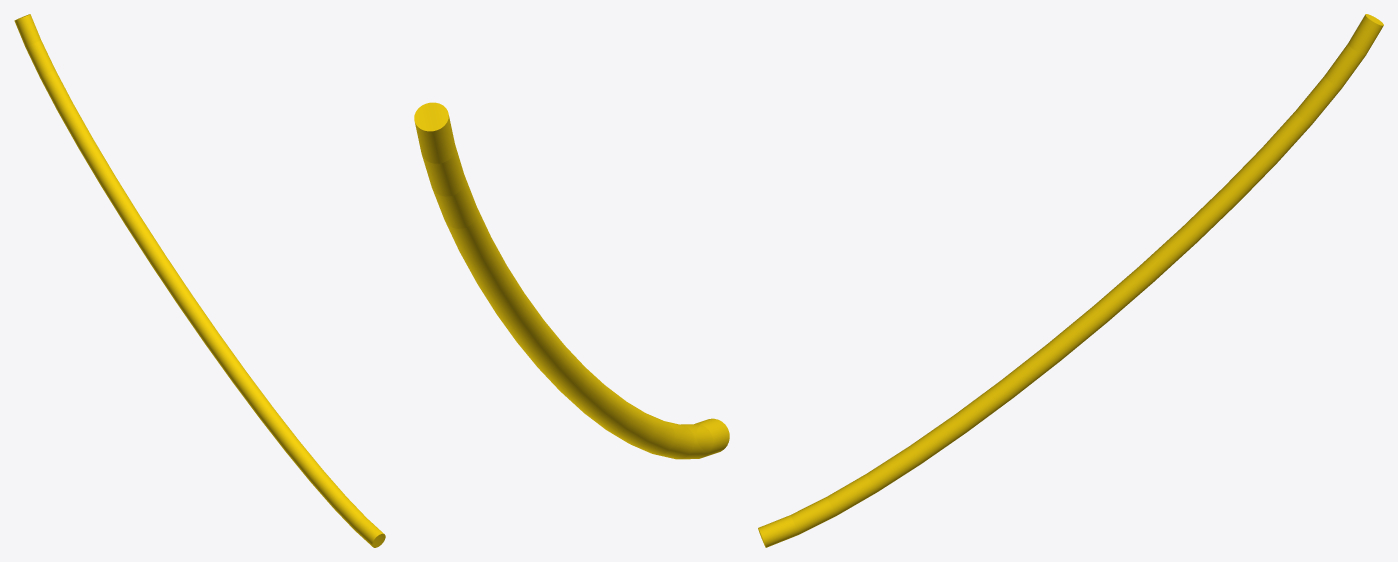
File: Event_420094457_track_95.fbx
3 renders of one model, left to right at view 1: azimuth 30°, elevation 25°; view 2: azimuth 150°, elevation 25°; view 3: azimuth 270°, elevation 25°, orthographic. The views are drawn at different scales.
Visible parts, largest first — view 1: Model; view 2: Model; view 3: Model.
Part boxes in pixels (x1,y1,x2,y2): Model: (14,14,385,547); Model: (414,102,729,459); Model: (758,14,1383,547).
Bounding box in the file's own units: 0.3238 × 0.9567 × 1.16.
